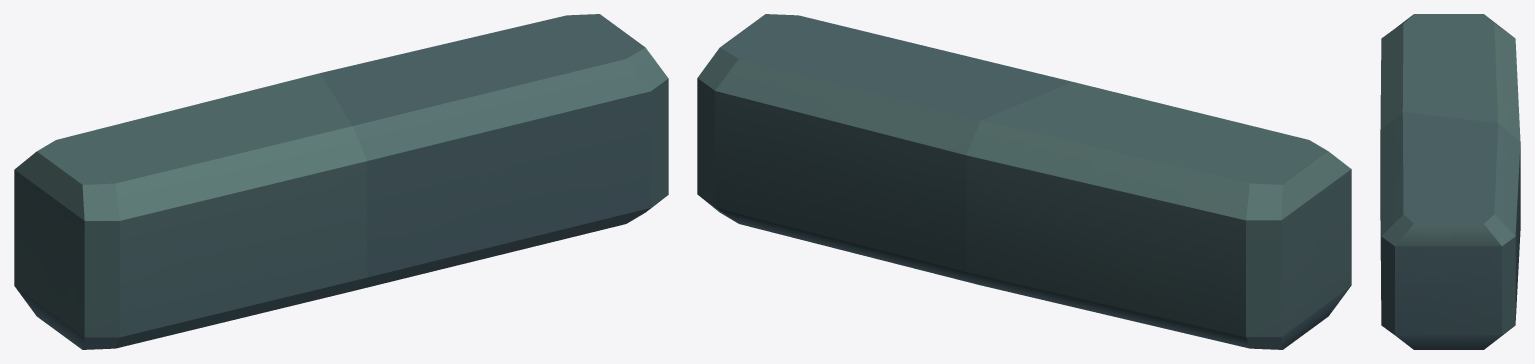
The model's file is archway_small_bridge_part_large1.fbx.
3 renders of one model, left to right at view 1: azimuth 30°, elevation 25°; view 2: azimuth 150°, elevation 25°; view 3: azimuth 270°, elevation 25°, orthographic. The views are drawn at different scales.
Parts seen in each view (by area): view 1: archway_small_bridge_part_large1; view 2: archway_small_bridge_part_large1; view 3: archway_small_bridge_part_large1.
Boxes of the visible parts, x1=… form: archway_small_bridge_part_large1: x1=14, y1=14, x2=668, y2=349; archway_small_bridge_part_large1: x1=697, y1=14, x2=1351, y2=349; archway_small_bridge_part_large1: x1=1380, y1=14, x2=1520, y2=349.
Bounding box in the file's own units: 210 × 56.68 × 57.03.
